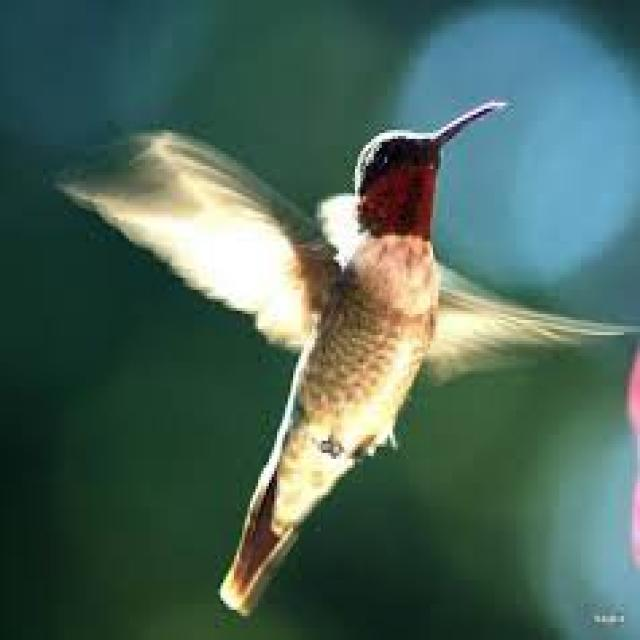Humming Bird: (71, 102, 604, 614)
